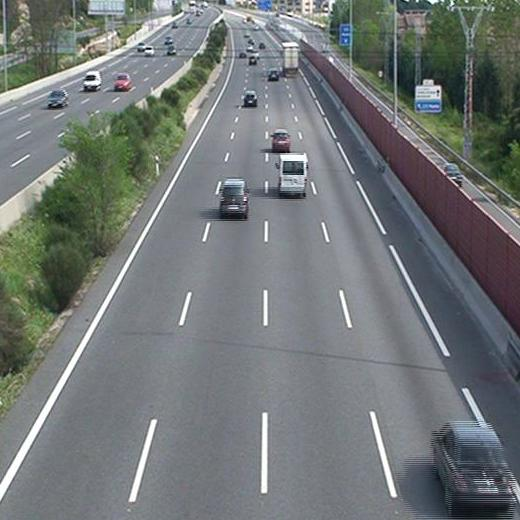car: (430, 422, 515, 513), (218, 177, 248, 216), (271, 132, 290, 150), (244, 92, 259, 107), (268, 70, 280, 81), (249, 56, 258, 65)
truck: (280, 42, 301, 77)
van: (276, 155, 308, 196)
